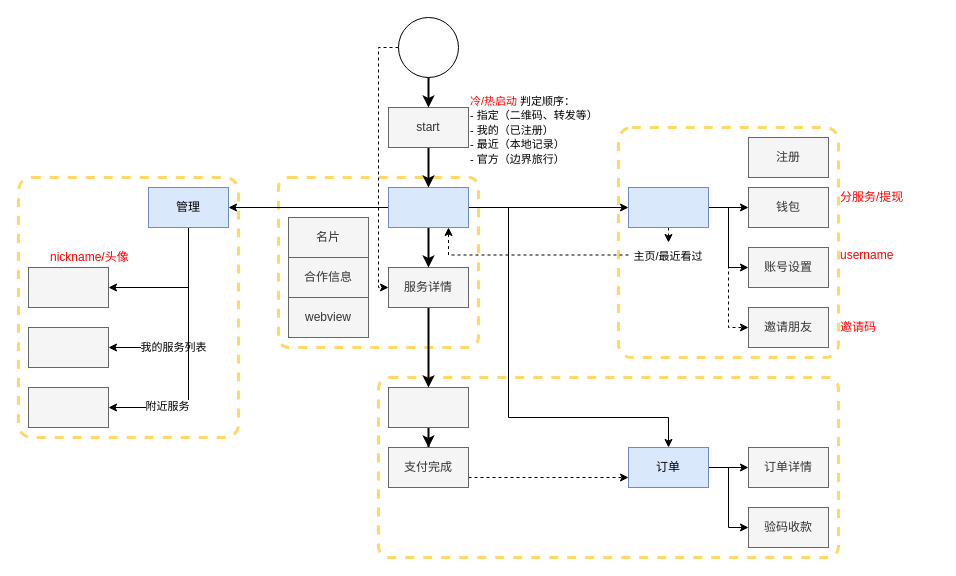
Some shapes in this 956 by 576 pixel diagram are drawn without their labels. Here are the shapes that lost their labels. From the top down, the box of each, then its label:
(398, 16, 458, 78): 进入
(388, 186, 468, 228): 主页
(628, 186, 708, 228): 账号
(28, 266, 108, 308): 主页设置
(28, 326, 108, 368): 服务管理
(28, 386, 108, 428): 本地圈
(388, 386, 468, 428): 预订
